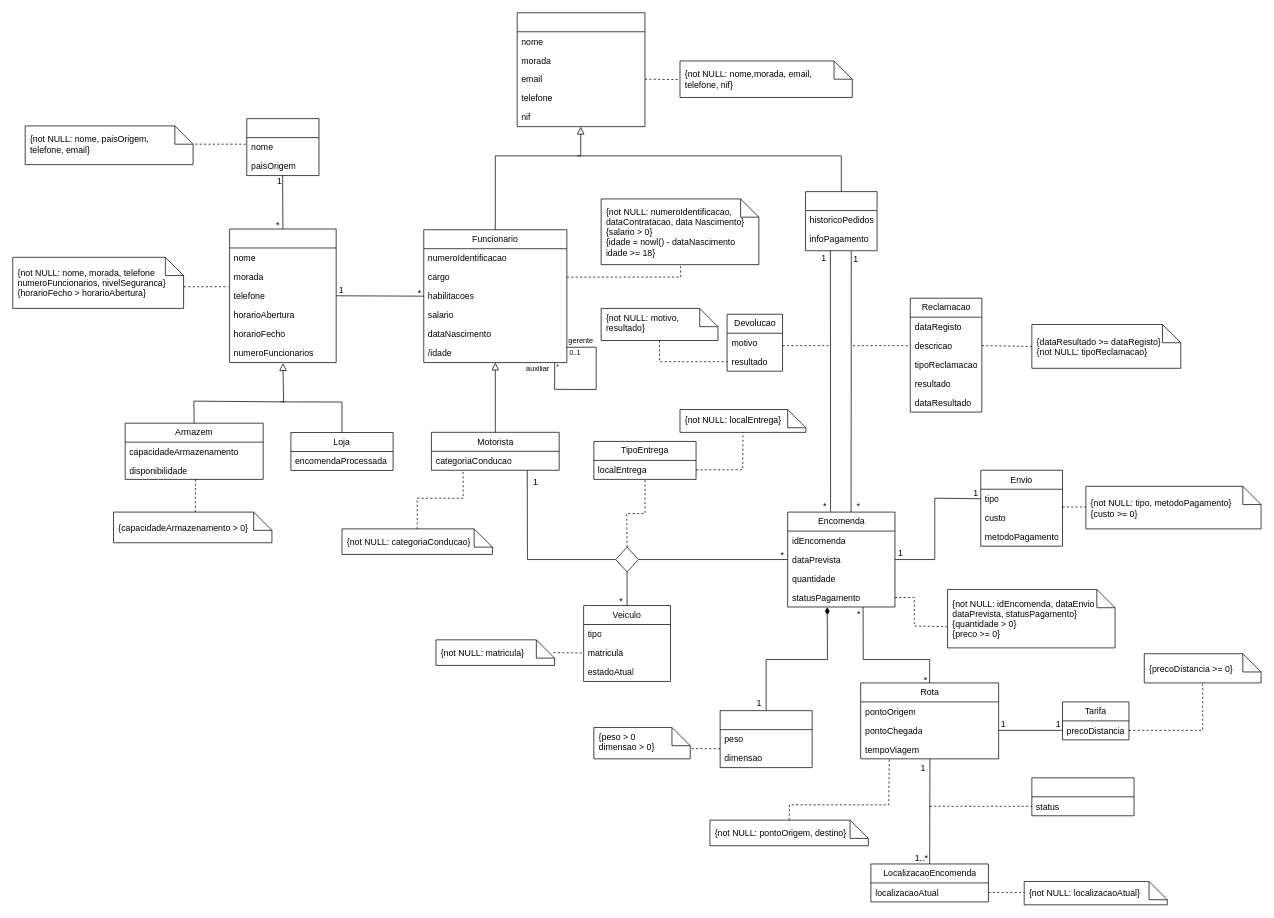
This 1274x918 diagram has some shape labels left out. Each missing label, with the box of its shape:
Carga: (719, 710, 812, 768)
Cliente: (805, 191, 877, 251)
Edificio: (229, 228, 336, 363)
Empresa: (246, 118, 319, 176)
Pessoa: (516, 12, 645, 127)
ServicoRastreamento: (1031, 777, 1134, 816)
